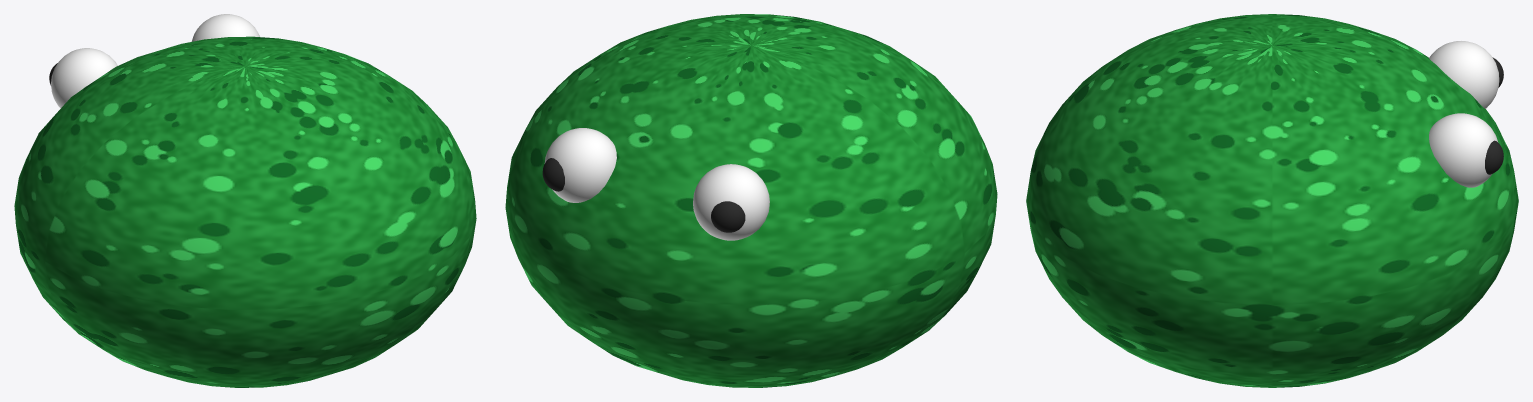
File: blob-ooze-proof.glb
3 renders of one model, left to right at view 1: azimuth 30°, elevation 25°; view 2: azimuth 150°, elevation 25°; view 3: azimuth 270°, elevation 25°, orthographic. The views are drawn at different scales.
Visible parts, largest first — view 1: Body, Eye, Eye.001; view 2: Body, Eye, Eye.001, Pupil, Pupil.001; view 3: Body, Eye.001, Eye, Pupil.001.
Part boxes in pixels (x1,y1,x2,y2): Body: (14, 36, 476, 387); Eye: (51, 48, 117, 108); Eye.001: (191, 14, 259, 41); Body: (505, 14, 997, 387); Eye: (693, 164, 769, 240); Eye.001: (544, 128, 616, 202); Pupil: (711, 201, 745, 232); Pupil.001: (542, 158, 564, 191); Body: (1026, 14, 1518, 387); Eye.001: (1429, 113, 1498, 187); Eye: (1429, 41, 1499, 108); Pupil.001: (1485, 140, 1503, 174).
Size of the model in its own units: 1.15 by 0.8 by 1.15.
3 materials, 1 textured.
